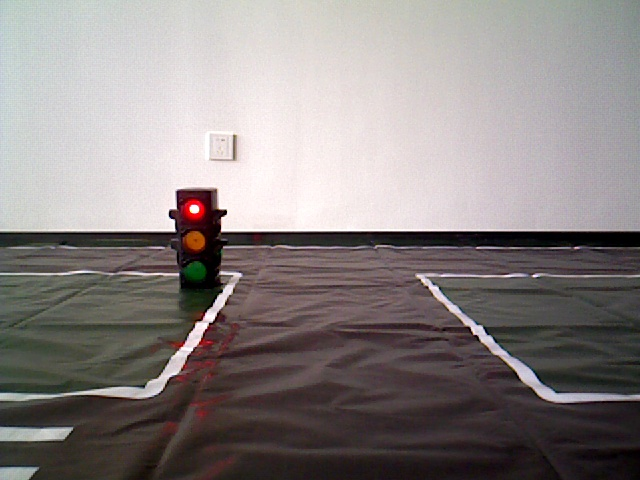red: (176, 192, 217, 284)
